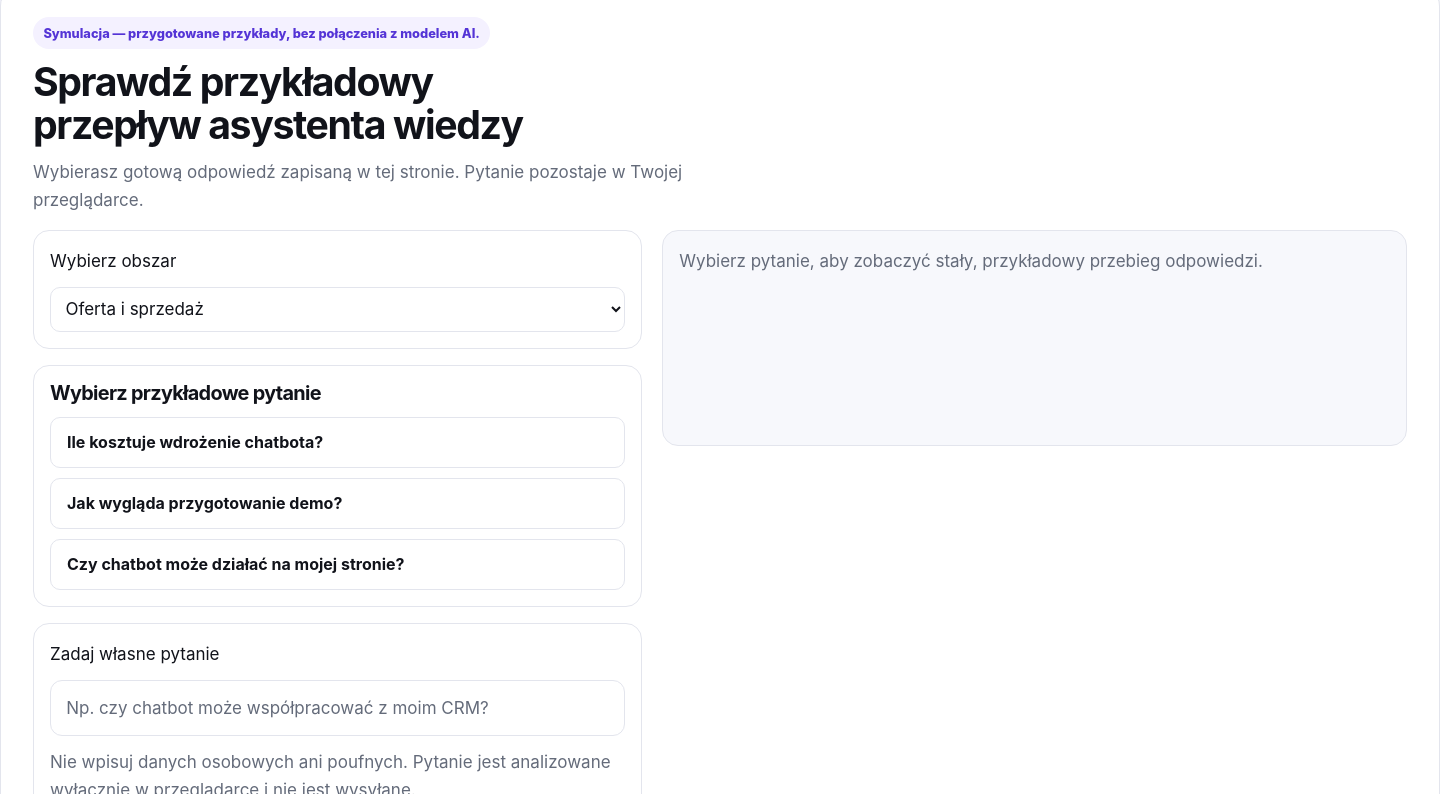
Test: KnowledgeDemoComponent › matches a custom question, preserves the original text, and avoids network or storage writes
This screenshot has width=1440, height=794.
Type "ILE KOSZTUJE CHATBOT!!!" into the field with id "custom-question" at (338, 708), box top-left (50, 680), bottom-right (625, 736)
(page scrolled)
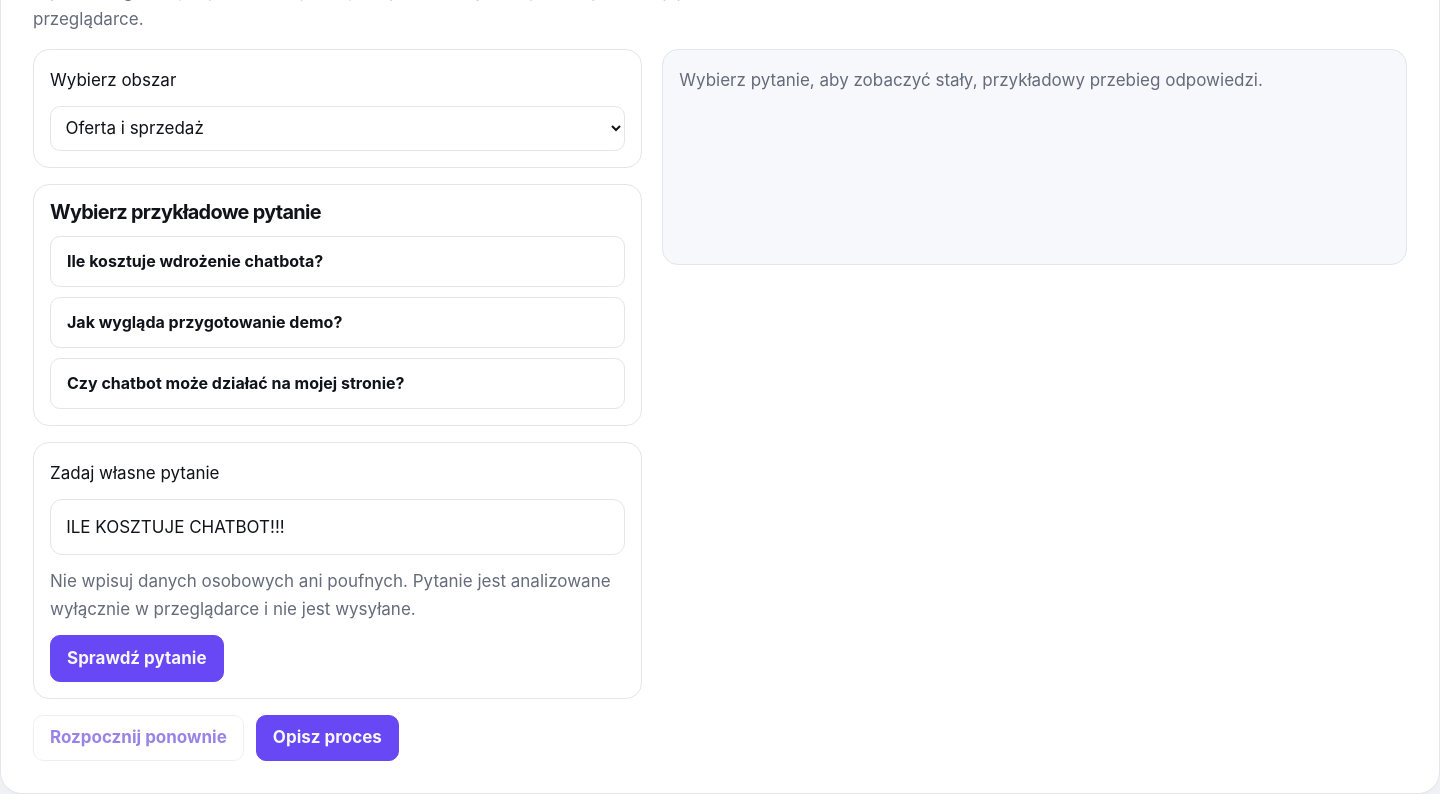
Expected: the submit button is enabled, top-left (50, 635), bottom-right (224, 682)
Submit the form with class "custom-question-form", box top-left (33, 442), bottom-right (642, 699)
Wait 250 ms
(page scrolled)
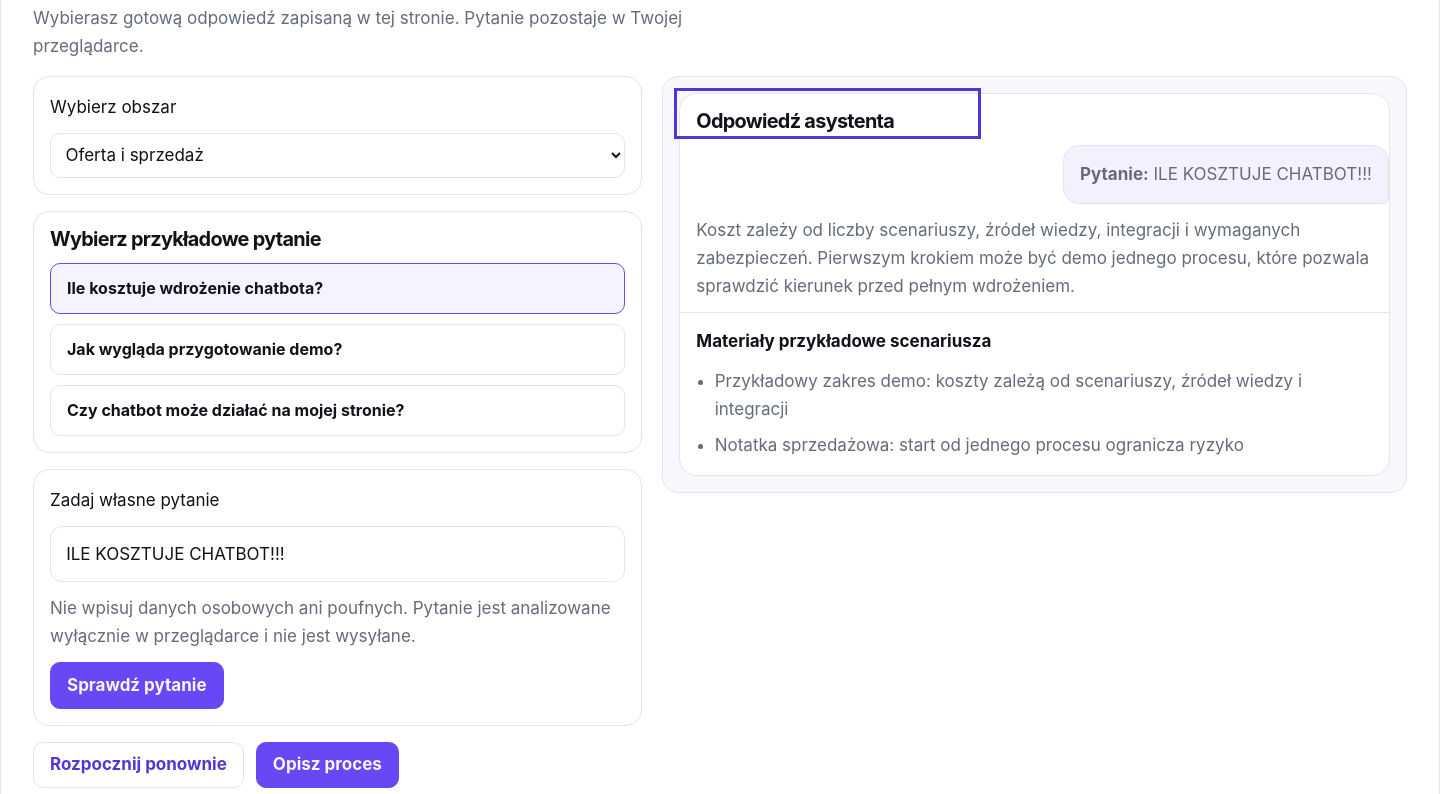
Expected: the element with class "message-user" shows "ILE KOSZTUJE CHATBOT", top-left (1149, 164), bottom-right (1372, 184)
